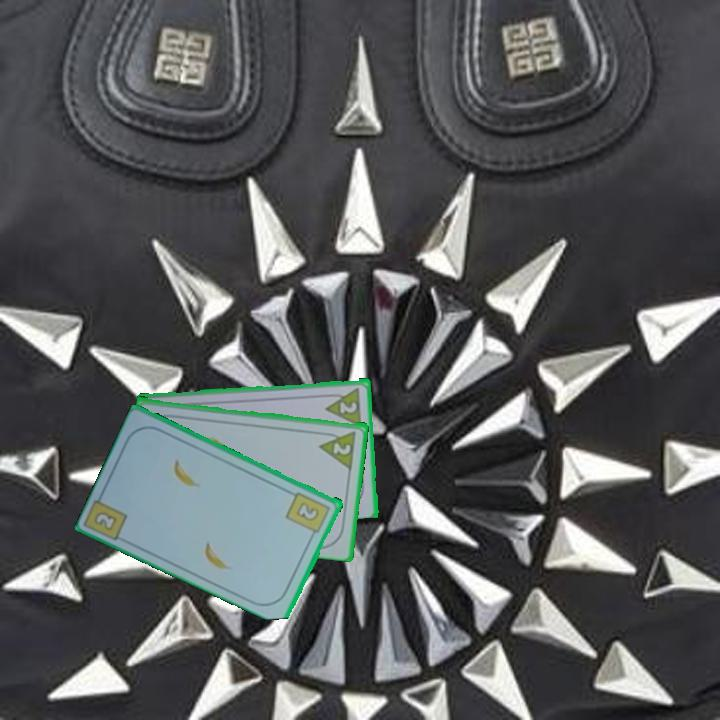2b: (283, 488, 333, 541), (91, 508, 120, 533)
2p: (330, 438, 354, 458), (337, 398, 360, 416)
